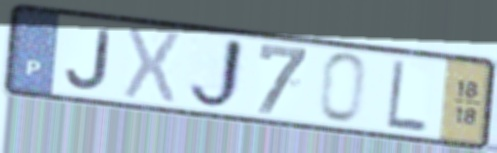0: (316, 49, 374, 127)
7: (254, 41, 311, 116)
J: (184, 34, 248, 113), (63, 26, 114, 92)
L: (384, 56, 430, 135)
X: (119, 24, 185, 108)
